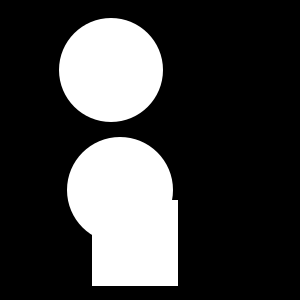circle: (92, 200, 178, 286)
rectangle: (67, 137, 173, 243), (59, 18, 163, 122), (122, 36, 130, 44)
